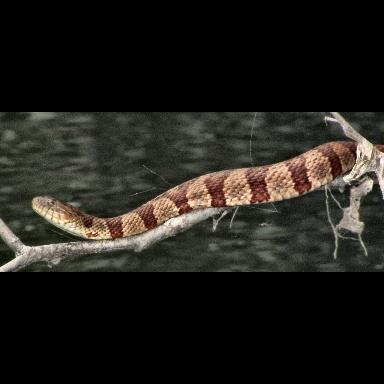snake: (18, 134, 383, 260)
